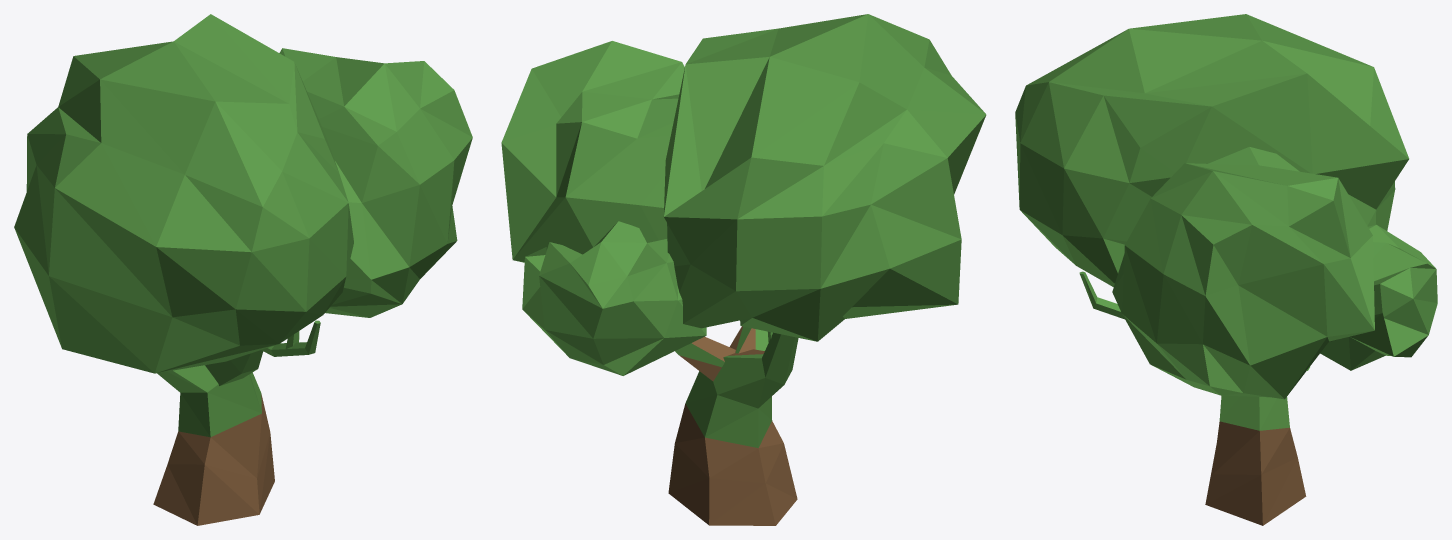
The model's file is tree3d-132.glb.
The picture shows the model from 3 angles, left to right: view 1: azimuth 30°, elevation 25°; view 2: azimuth 150°, elevation 25°; view 3: azimuth 270°, elevation 25°; orthographic projection. The views are drawn at different scales.
Parts seen in each view (by area): view 1: tree3d-132; view 2: tree3d-132; view 3: tree3d-132.
Boxes of the visible parts, x1,y1,x2,y2 form: tree3d-132: (14, 14, 472, 525); tree3d-132: (501, 14, 986, 525); tree3d-132: (1015, 14, 1437, 525).
Bounding box in the file's own units: 0.9642 × 1 × 0.8734.
